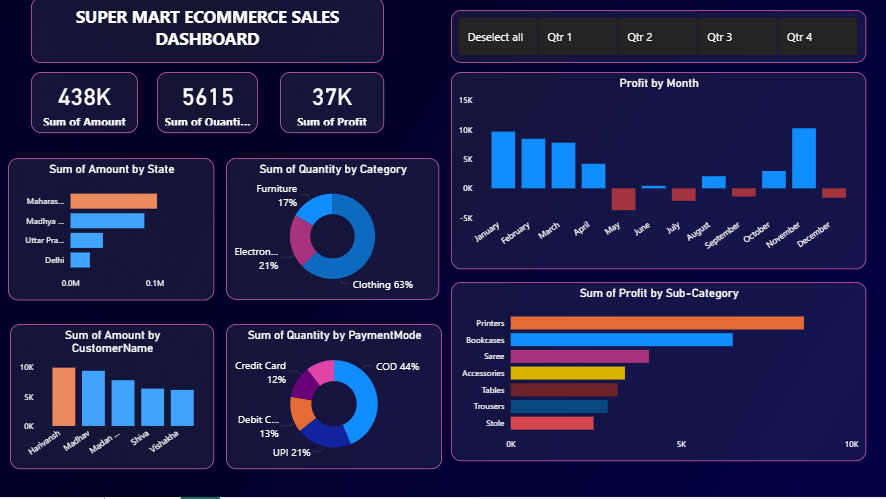

What the dashboard file says about the page in this screenshot:
{"tool":"powerbi","page":{"name":"Page 1","canvas":[1280,720],"ordinal":0},"visuals":[{"type":"textbox","box":[47.5,0,508.3,95],"z":0},{"type":"columnChart","title":"Profit by Month","fields":{"Category":["Orders.Order Date.Variation.Date Hierarchy.Month"],"Y":["Sum(Details.Profit)"]},"box":[652.3,108,597.6,283.7],"z":1000},{"type":"barChart","fields":{"Category":["Details.Sub-Category"],"Y":["Sum(Details.Profit)"]},"box":[652.3,410.4,597.6,257.8],"z":2000},{"type":"donutChart","fields":{"Category":["Details.Category"],"Y":["Sum(Details.Quantity)"]},"box":[328.3,231.8,306.7,204.5],"z":3000},{"type":"donutChart","fields":{"Y":["Sum(Details.Quantity)"],"Category":["Details.PaymentMode"]},"box":[328.3,470.9,311,208.8],"z":4000},{"type":"card","fields":{"Values":["Sum(Details.Amount)"]},"box":[47.5,108,154.1,87.8],"z":5000},{"type":"card","fields":{"Values":["Sum(Details.Quantity)"]},"box":[229,108,145.4,87.8],"z":6000},{"type":"card","fields":{"Values":["Sum(Details.Profit)"]},"box":[406.1,108,149.8,87.8],"z":7000},{"type":"barChart","fields":{"Y":["Sum(Details.Amount)"],"Category":["Orders.State"]},"box":[15.1,231.8,297.3,204.9],"z":8000},{"type":"columnChart","fields":{"Category":["Orders.CustomerName"],"Y":["Sum(Details.Amount)"]},"box":[17.3,470.9,293.8,208.8],"z":9000},{"type":"advancedSlicerVisual","fields":{"Values":["Orders.Order Date.Variation.Date Hierarchy.Quarter"]},"box":[652.3,18.7,597.6,76.3],"z":10000}]}

Visuals, with their boxes in screenshot pixels (x1, y1, x2, y2), scaled from the page's 1280x720 canvas onto the 886x499 screenshot:
textbox: box(33, 0, 385, 66)
"Profit by Month" columnChart: box(452, 75, 865, 271)
barChart - Details.Sub-Category x Sum(Details.Profit): box(452, 284, 865, 463)
donutChart - Details.Category x Sum(Details.Quantity): box(227, 161, 440, 302)
donutChart - Sum(Details.Quantity) x Details.PaymentMode: box(227, 326, 443, 471)
card - Sum(Details.Amount): box(33, 75, 140, 136)
card - Sum(Details.Quantity): box(159, 75, 259, 136)
card - Sum(Details.Profit): box(281, 75, 385, 136)
barChart - Sum(Details.Amount) x Orders.State: box(10, 161, 216, 303)
columnChart - Orders.CustomerName x Sum(Details.Amount): box(12, 326, 215, 471)
advancedSlicerVisual - Orders.Order Date.Variation.Date Hierarchy.Quarter: box(452, 13, 865, 66)
